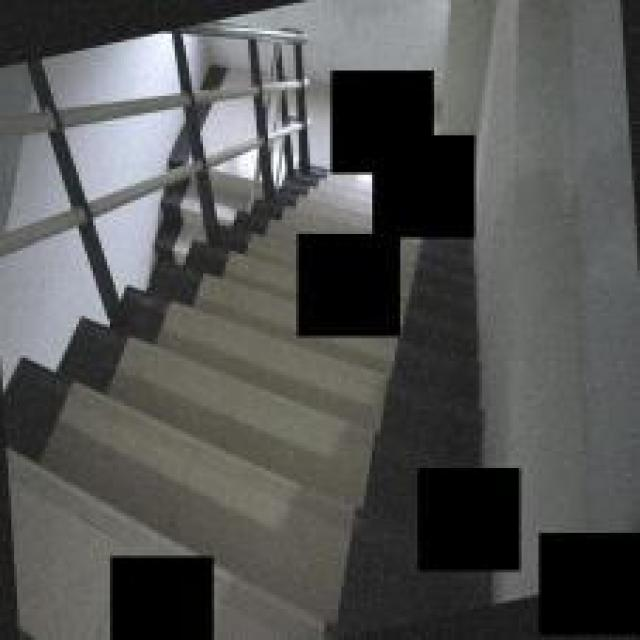downstair: (35, 370, 393, 548)
